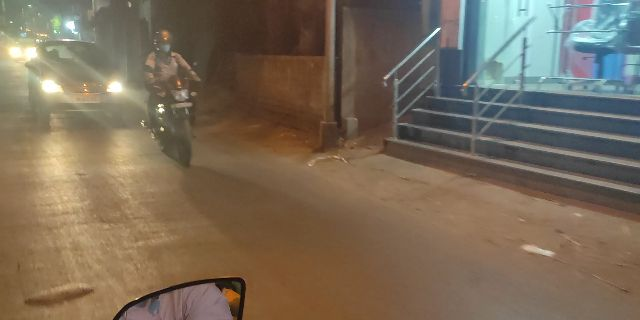Car: (26, 40, 132, 122)
Motorbike: (141, 24, 207, 172)
